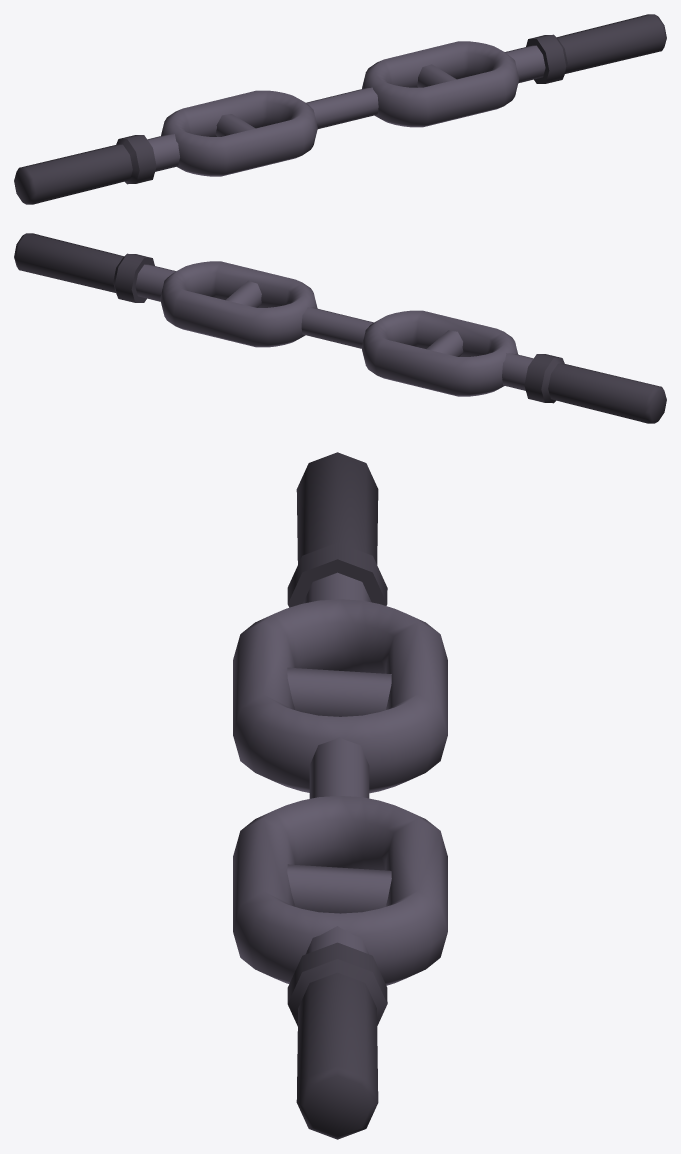
Rendered from Barbell_v04.fbx.
3 renders of one model, top to bottom at view 1: azimuth 30°, elevation 25°; view 2: azimuth 150°, elevation 25°; view 3: azimuth 270°, elevation 25°, orthographic. The views are drawn at different scales.
Parts seen in each view (by area): view 1: Barbell_v04; view 2: Barbell_v04; view 3: Barbell_v04.
Boxes of the visible parts, <box> form: Barbell_v04: <box>14,14,666,204</box>; Barbell_v04: <box>14,233,666,423</box>; Barbell_v04: <box>233,452,447,1139</box>.
Bounding box in the file's own units: 1.51 × 0.1029 × 0.2213.
1 material, 1 textured.
